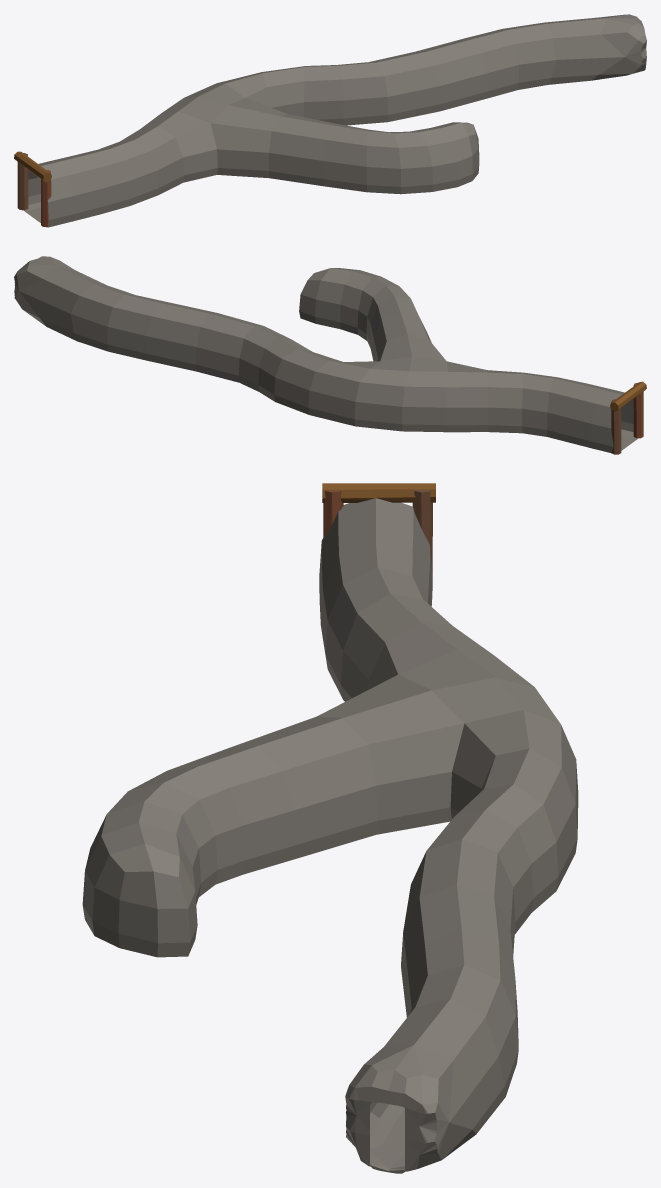
Rendered from CUEVA BLENDER.fbx.
3 views of the same model, one above another, from view 1: azimuth 30°, elevation 25°; view 2: azimuth 150°, elevation 25°; view 3: azimuth 270°, elevation 25° (orthographic). The views are drawn at different scales.
Visible parts, largest first — view 1: Cueva, EntradaDerecha, EntradaArriba, EntradaIzquierda; view 2: Cueva, EntradaIzquierda, EntradaDerecha, EntradaArriba; view 3: Cueva, EntradaArriba.
Boxes of the visible parts, left/top/right/bottom form: Cueva: left=24, top=14, right=646, bottom=227; EntradaDerecha: left=17, top=153, right=28, bottom=210; EntradaArriba: left=14, top=151, right=51, bottom=182; EntradaIzquierda: left=41, top=170, right=51, bottom=227; Cueva: left=14, top=256, right=638, bottom=452; EntradaIzquierda: left=633, top=382, right=643, bottom=438; EntradaDerecha: left=611, top=399, right=621, bottom=454; EntradaArriba: left=610, top=381, right=646, bottom=411; Cueva: left=82, top=498, right=578, bottom=1173; EntradaArriba: left=322, top=483, right=435, bottom=502.
Bounding box in the file's own units: 2475 × 211 × 877.
